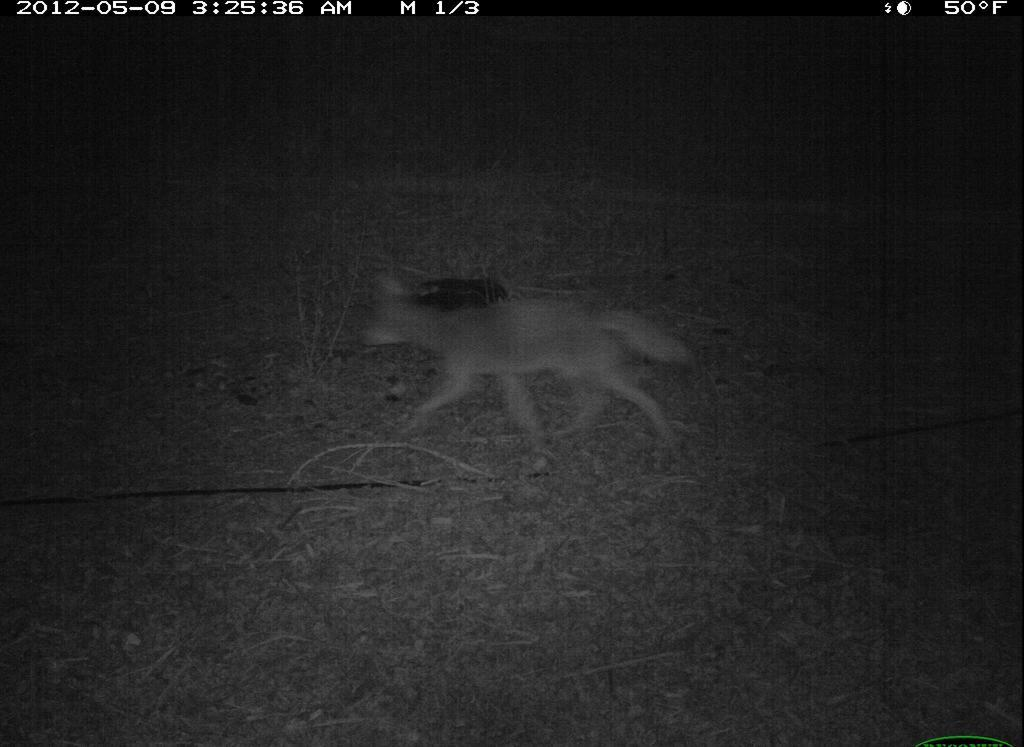coyote: (342, 265, 702, 472)
